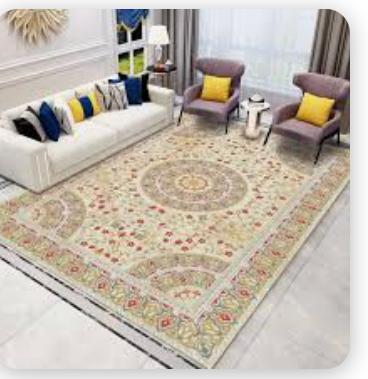carpet: (0, 4, 363, 379)
